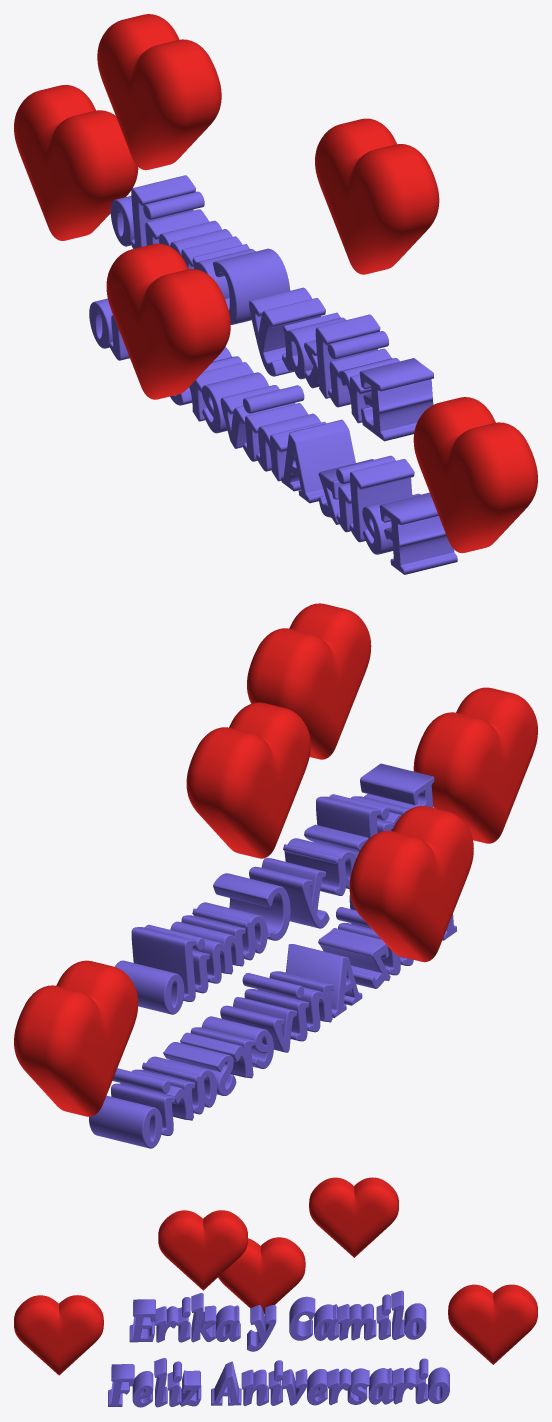
File: aniversario.glb
3 views of the same model, one above another, from view 1: azimuth 30°, elevation 25°; view 2: azimuth 150°, elevation 25°; view 3: azimuth 270°, elevation 25° (orthographic). The views are drawn at different scales.
Parts seen in each view (by area): view 1: Text, Cube.002, Cube, Cube.004, Cube.003, Cube.001; view 2: Text, Cube, Cube.004, Cube.001, Cube.002, Cube.003; view 3: Text, Cube.003, Cube, Cube.001, Cube.002, Cube.004.
Boxes of the visible parts, x1,y1,x2,y2 form: Text: (89, 175, 457, 574); Cube.002: (413, 397, 537, 553); Cube: (97, 14, 221, 170); Cube.004: (106, 243, 230, 399); Cube.003: (315, 118, 439, 274); Cube.001: (14, 85, 138, 240); Text: (89, 763, 456, 1148); Cube: (186, 702, 310, 858); Cube.004: (349, 806, 473, 962); Cube.001: (14, 960, 138, 1116); Cube.002: (413, 687, 537, 843); Cube.003: (247, 603, 371, 759); Text: (108, 1290, 449, 1407); Cube.003: (158, 1210, 247, 1290); Cube: (309, 1177, 398, 1257); Cube.001: (448, 1284, 537, 1364); Cube.002: (14, 1295, 103, 1375); Cube.004: (218, 1237, 305, 1314).
Bounding box in the file's own units: 5.37 × 9.02 × 20.64.
